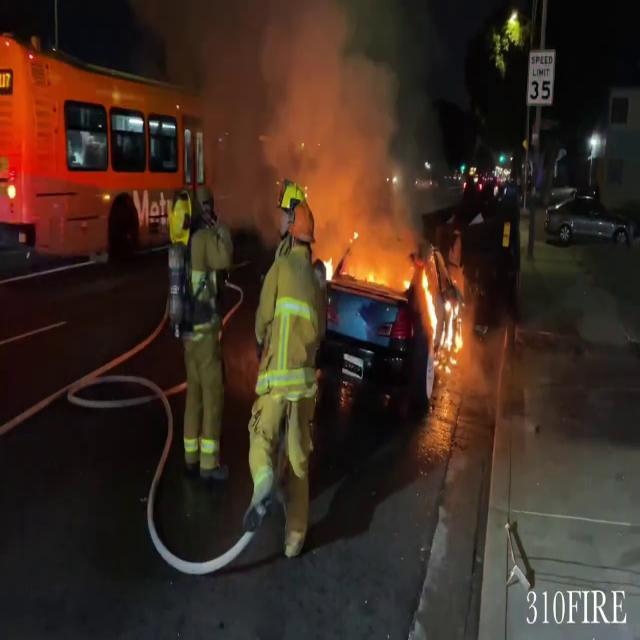Fire: (420, 264, 466, 368), (420, 266, 438, 340)
Smoke: (186, 0, 437, 261)
